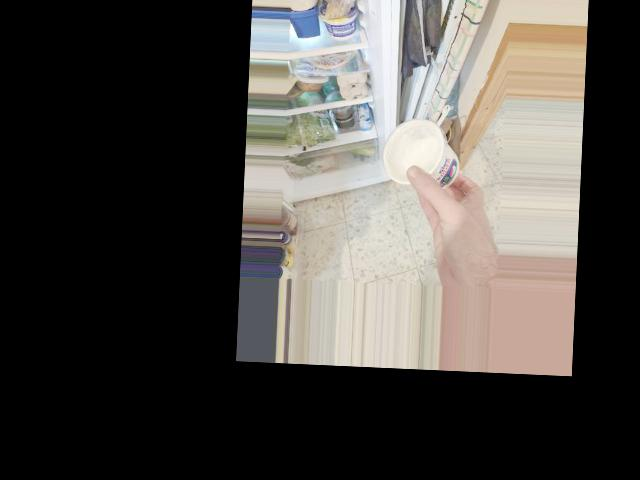cotage: (383, 113, 466, 195)
